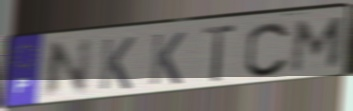C: (243, 20, 292, 79)
K: (97, 35, 138, 92), (147, 30, 188, 87)
M: (288, 15, 348, 75)
N: (39, 36, 94, 102)
T: (200, 23, 239, 85)
